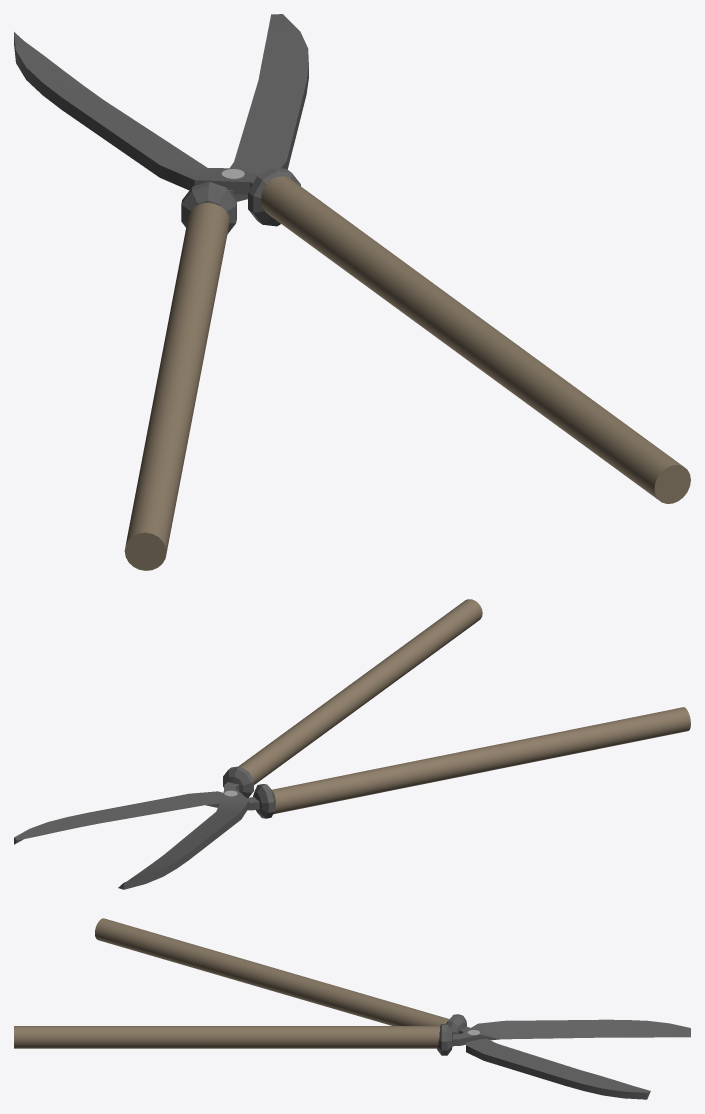
File: sennteibasami.fbx
The picture shows the model from 3 angles, top to bottom: view 1: azimuth 30°, elevation 25°; view 2: azimuth 150°, elevation 25°; view 3: azimuth 270°, elevation 25°; orthographic projection. The views are drawn at different scales.
Parts seen in each view (by area): view 1: pCylinder3, pasted__pCylinder3, pPlane3, pasted__pPlane3, pasted__pSphere1, pSphere1; view 2: pasted__pCylinder3, pCylinder3, pPlane3, pasted__pPlane3, pSphere1, pasted__pSphere1; view 3: pCylinder3, pasted__pCylinder3, pPlane3, pasted__pPlane3, pSphere1.
Part boxes in pixels (x1,y1,x2,y2): pCylinder3: [261, 176, 690, 503]; pasted__pCylinder3: [124, 202, 229, 570]; pPlane3: [14, 32, 258, 194]; pasted__pPlane3: [228, 14, 308, 201]; pasted__pSphere1: [181, 182, 236, 234]; pSphere1: [248, 167, 300, 226]; pasted__pCylinder3: [272, 707, 690, 814]; pCylinder3: [238, 599, 482, 784]; pPlane3: [118, 782, 248, 889]; pasted__pPlane3: [14, 791, 259, 844]; pSphere1: [223, 766, 253, 797]; pasted__pSphere1: [253, 784, 275, 818]; pCylinder3: [14, 1026, 440, 1048]; pasted__pCylinder3: [95, 918, 449, 1025]; pPlane3: [452, 1019, 690, 1045]; pasted__pPlane3: [459, 1026, 650, 1099]; pSphere1: [437, 1024, 452, 1055].
Bounding box in the file's own units: 1.92 × 0.1795 × 3.17.
